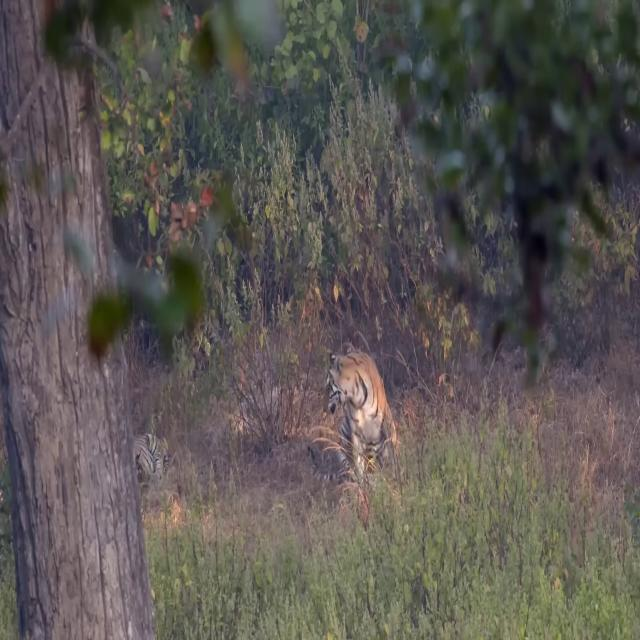tiger: (310, 350, 403, 482)
